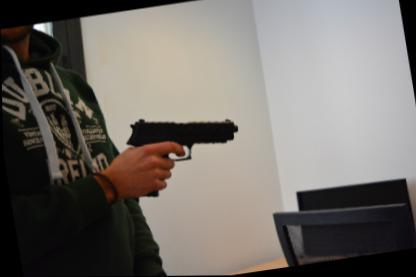pistol: (120, 103, 246, 198)
